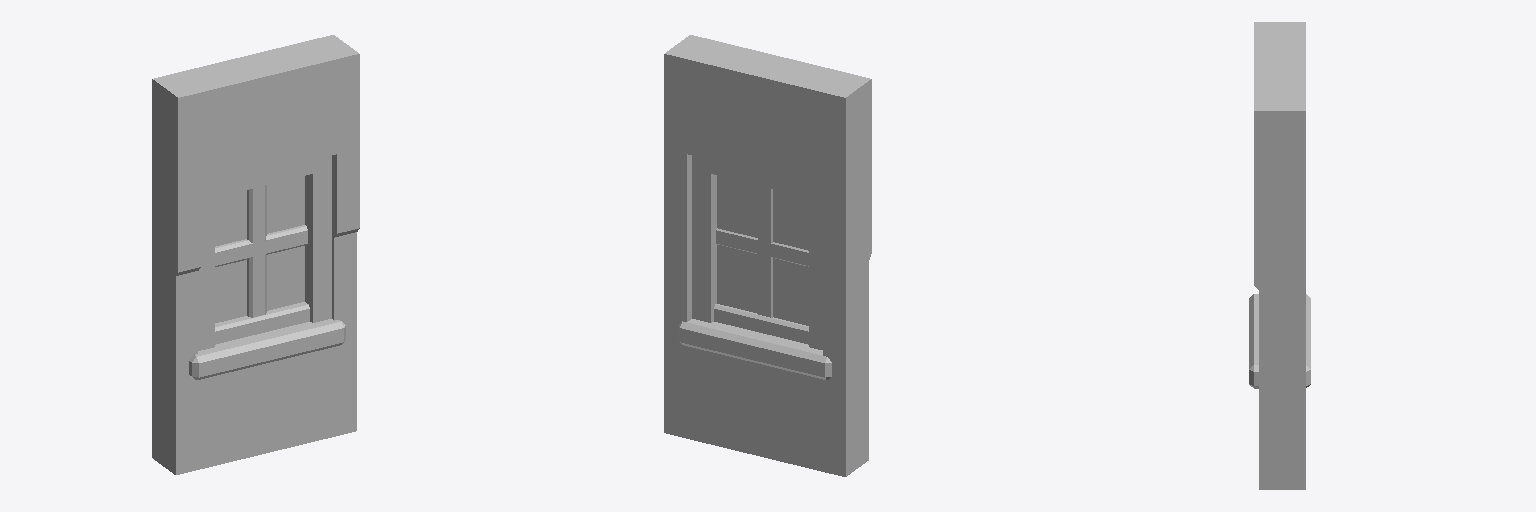
Rendered from wall_plain_kitchen_window_small.obj.
3 views of the same model, side by side, from view 1: azimuth 30°, elevation 25°; view 2: azimuth 150°, elevation 25°; view 3: azimuth 270°, elevation 25° (orthographic).
Visible parts, largest first — view 1: wall_plain_kitchen_window_small; view 2: wall_plain_kitchen_window_small; view 3: wall_plain_kitchen_window_small.
Part boxes in pixels (left/top/right/bottom): wall_plain_kitchen_window_small: left=152, top=35, right=359, bottom=474; wall_plain_kitchen_window_small: left=664, top=35, right=871, bottom=476; wall_plain_kitchen_window_small: left=1249, top=22, right=1310, bottom=489.
Size of the model in its own units: 2 by 4 by 0.6.